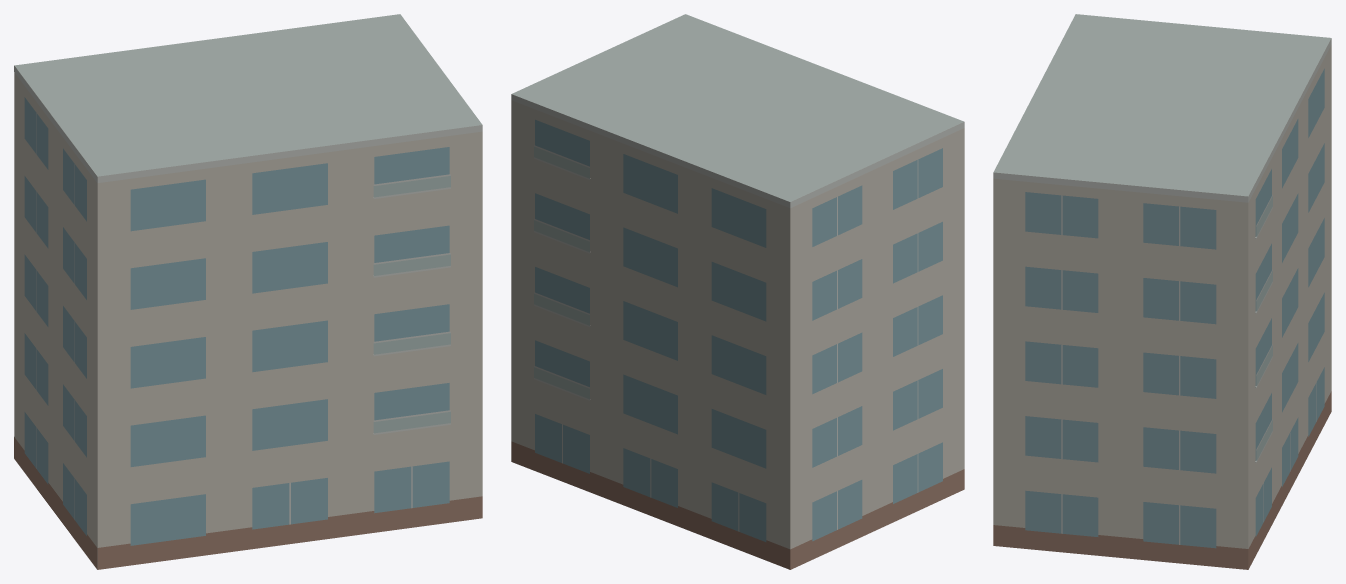
Rendered from survey-upis-32661319.glb.
3 views of the same model, side by side, from view 1: azimuth 30°, elevation 25°; view 2: azimuth 150°, elevation 25°; view 3: azimuth 270°, elevation 25° (orthographic). The views are drawn at different scales.
Visible parts, largest first — view 1: survey-upis-32661319.tmp; view 2: survey-upis-32661319.tmp; view 3: survey-upis-32661319.tmp.
Part boxes in pixels (x1,y1,x2,y2): survey-upis-32661319.tmp: (14, 14, 482, 569); survey-upis-32661319.tmp: (511, 14, 964, 569); survey-upis-32661319.tmp: (993, 14, 1331, 569).
Size of the model in its own units: 15.31 by 14.6 by 12.
